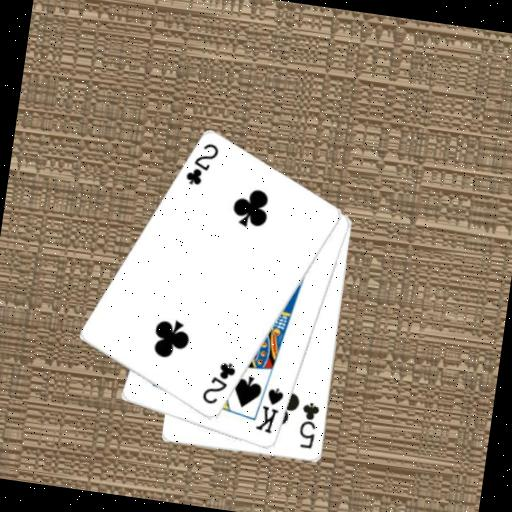2C: (198, 357, 238, 410), (182, 138, 222, 191)
5C: (295, 399, 322, 452)
KS: (252, 384, 286, 438)
